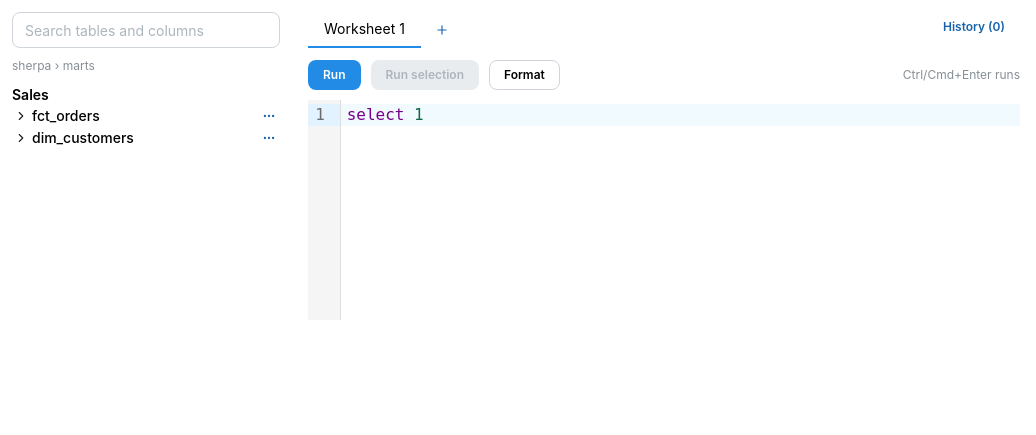
Test case: Explorer results › a too_many_connections error has its own title
The image size is (1036, 435).
Step 1. Click the button "Run" → (334,75), box [308, 60, 360, 90]
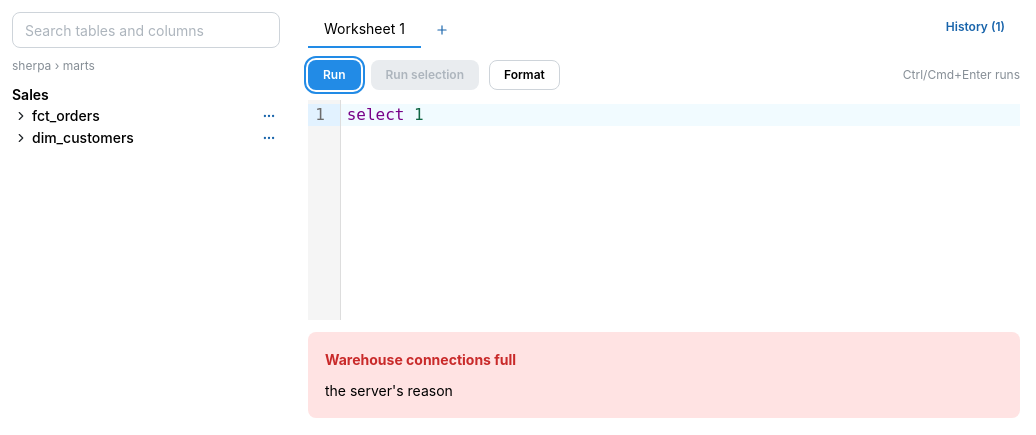
Now the text "Warehouse connections full" is shown, box [325, 349, 516, 371]
Now the text "the server's reason" is shown, box [325, 382, 453, 399]
